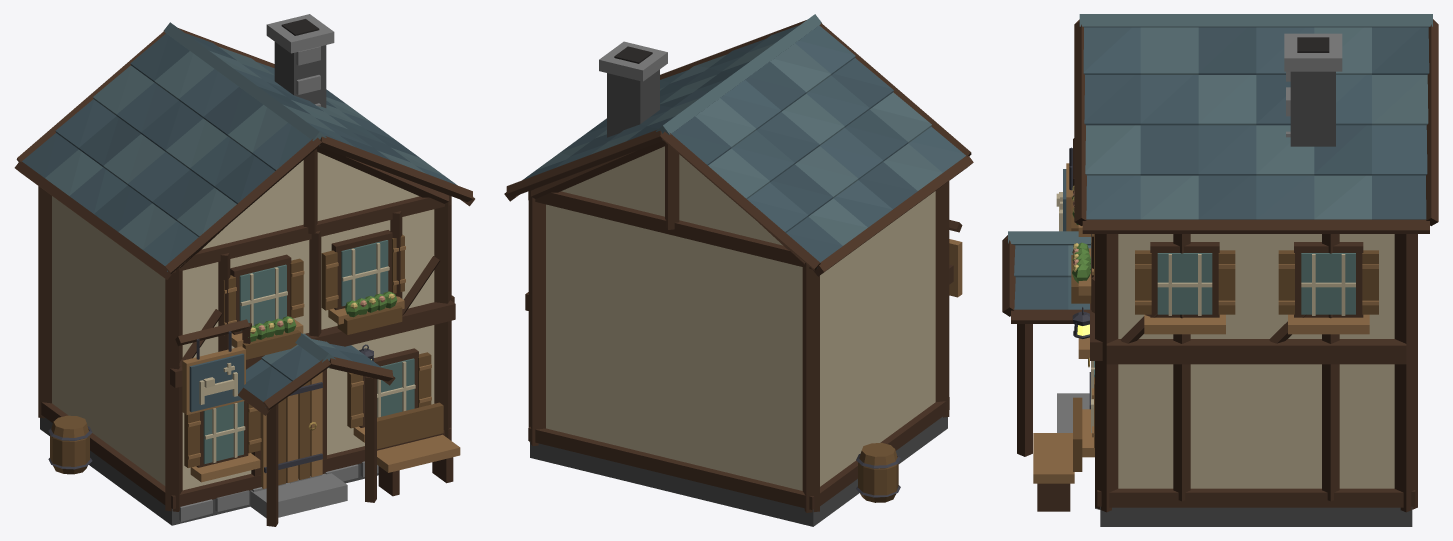
File: town_inn_a.glb
3 views of the same model, side by side, from view 1: azimuth 30°, elevation 25°; view 2: azimuth 150°, elevation 25°; view 3: azimuth 270°, elevation 25° (orthographic). The views are drawn at different scales.
Visible parts, largest first — view 1: town_inn_a; view 2: town_inn_a; view 3: town_inn_a.
Part boxes in pixels (<box>): town_inn_a: <box>14,14,474,526</box>; town_inn_a: <box>504,14,973,526</box>; town_inn_a: <box>1002,14,1438,526</box>.
Size of the model in its own units: 4.38 by 4.79 by 4.22.
